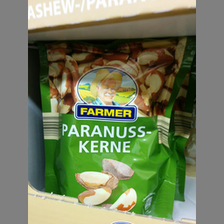nuts: (36, 37, 191, 217)
